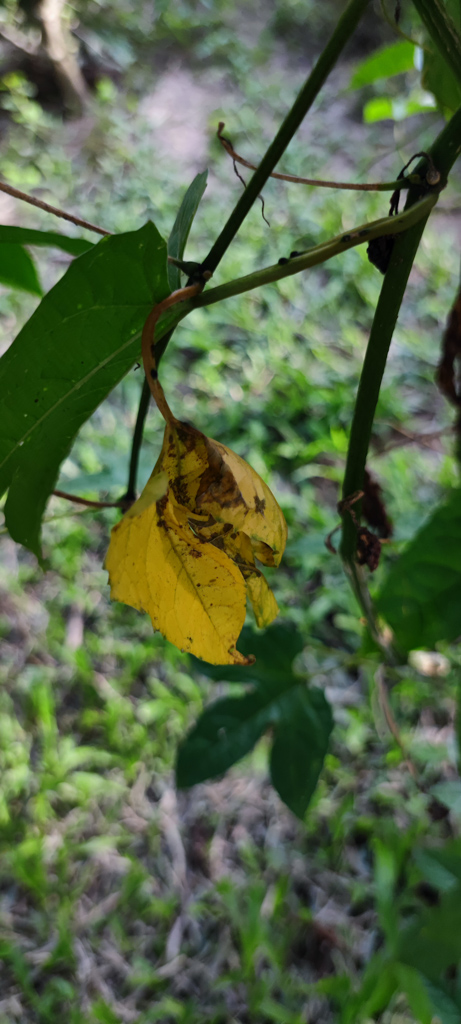Pepper yellow leaf: (93, 407, 296, 691)
